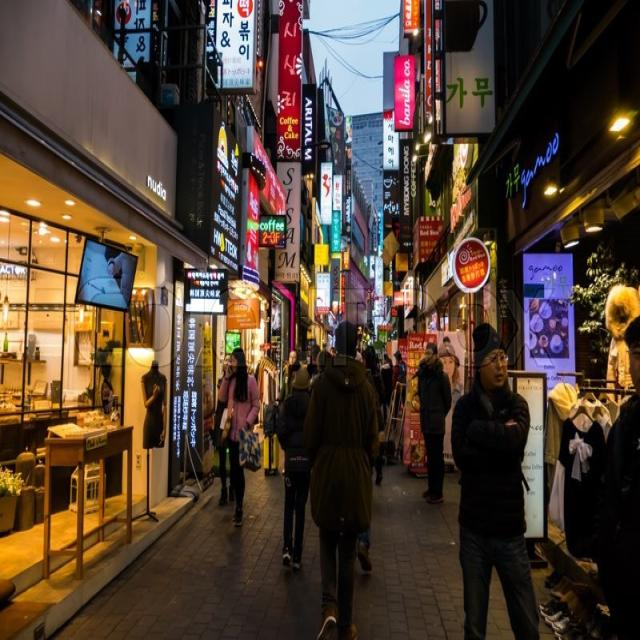body: (450, 318, 552, 639), (304, 317, 380, 639), (296, 344, 406, 473), (602, 308, 639, 638), (216, 345, 262, 526), (274, 365, 312, 572), (348, 348, 378, 572), (413, 342, 452, 507), (306, 347, 346, 465), (212, 351, 238, 506), (436, 335, 464, 460), (139, 359, 168, 450), (104, 246, 134, 305), (273, 347, 302, 408), (362, 344, 386, 408), (389, 348, 409, 422), (380, 353, 394, 425), (356, 324, 378, 345), (100, 379, 110, 412)
